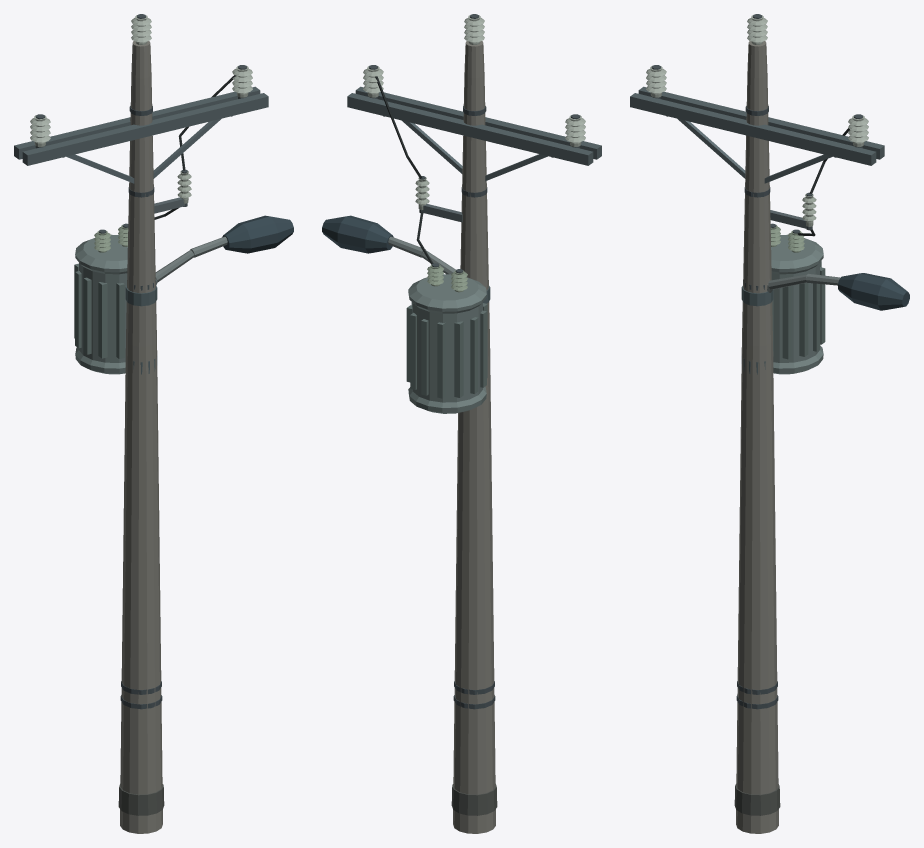
File: Coastal-Distribution.glb
The picture shows the model from 3 angles, left to right: view 1: azimuth 30°, elevation 25°; view 2: azimuth 150°, elevation 25°; view 3: azimuth 330°, elevation 25°; orthographic projection.
Visible parts, largest first — view 1: Distribution mast, Pole transformer, Galvanized outreach lamp; view 2: Distribution mast, Pole transformer, Galvanized outreach lamp; view 3: Distribution mast, Pole transformer, Galvanized outreach lamp.
Part boxes in pixels (box(x1,y1,x2,y2)): Distribution mast: box(14, 14, 268, 833); Pole transformer: box(74, 75, 236, 374); Galvanized outreach lamp: box(155, 215, 293, 285); Distribution mast: box(347, 14, 601, 833); Pole transformer: box(375, 76, 490, 413); Galvanized outreach lamp: box(322, 215, 455, 274); Distribution mast: box(630, 14, 884, 833); Pole transformer: box(741, 128, 849, 374); Galvanized outreach lamp: box(767, 273, 909, 310).
Size of the model in its own units: 3.17 by 9.1 by 1.18.
